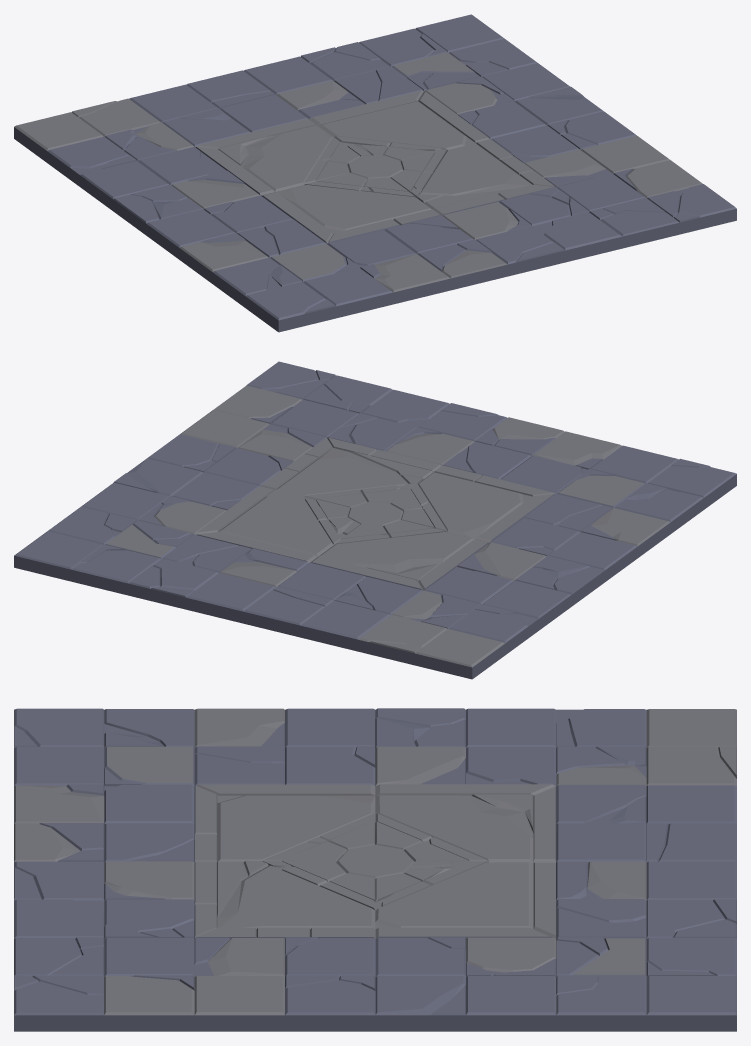
Rendered from Floor_Large.fbx.
3 views of the same model, one above another, from view 1: azimuth 30°, elevation 25°; view 2: azimuth 150°, elevation 25°; view 3: azimuth 270°, elevation 25° (orthographic). The views are drawn at different scales.
Visible parts, largest first — view 1: 1-Floor_Large; view 2: 1-Floor_Large; view 3: 1-Floor_Large.
Boxes of the visible parts, x1,y1,x2,y2 form: 1-Floor_Large: (14,14,736,332); 1-Floor_Large: (14,361,736,679); 1-Floor_Large: (14,708,736,1031).
Size of the model in its own units: 8 by 8 by 0.2235.
